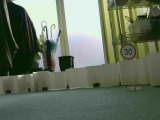speed_30: (118, 43, 137, 60)
